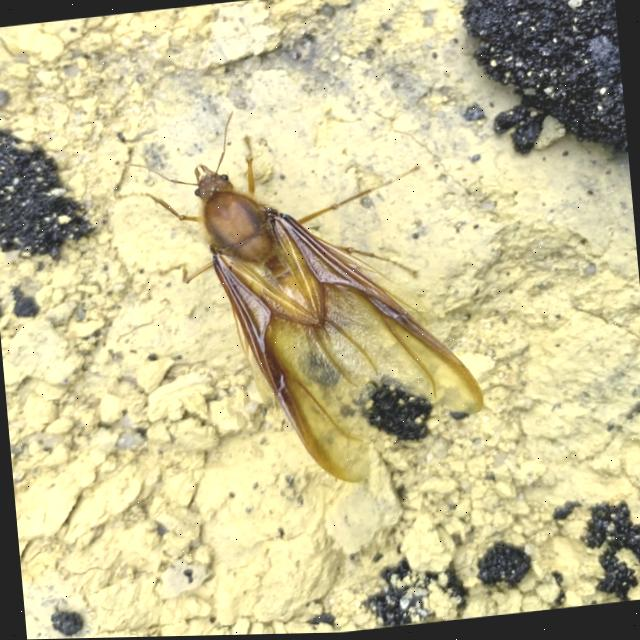Alive-Male-Alate: (121, 87, 487, 508)
